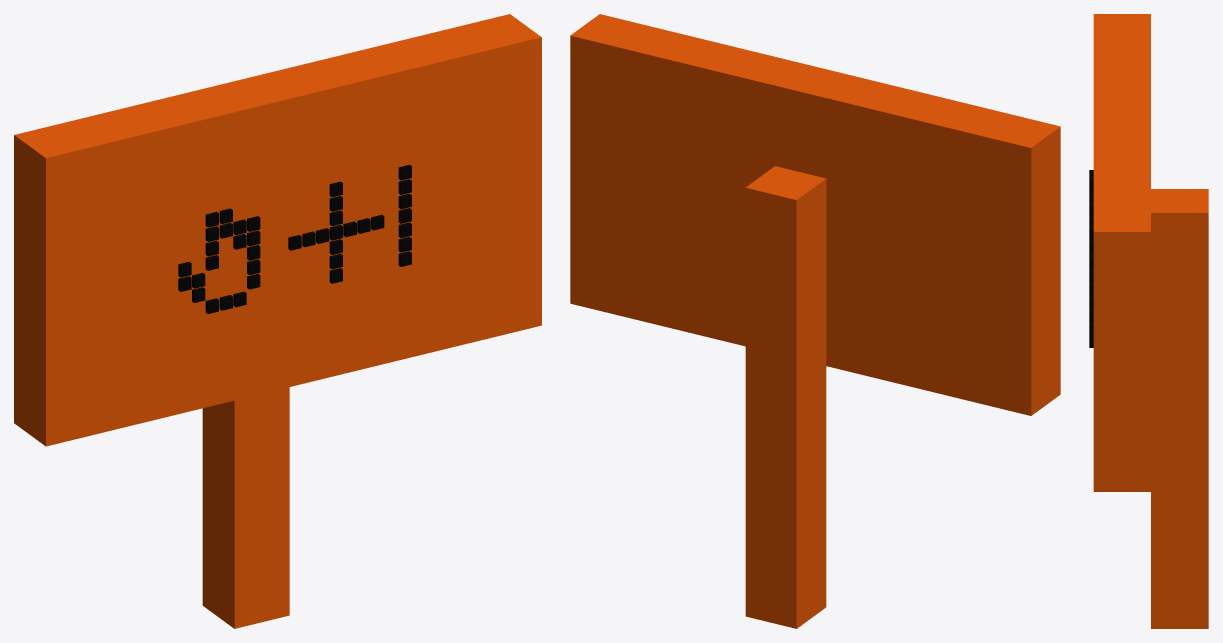
The model's file is ExpandPack.fbx.
3 renders of one model, left to right at view 1: azimuth 30°, elevation 25°; view 2: azimuth 150°, elevation 25°; view 3: azimuth 270°, elevation 25°, orthographic. The views are drawn at different scales.
Parts seen in each view (by area): view 1: 板, 杭; view 2: 板, 杭; view 3: 板, 杭.
Boxes of the visible parts, <box> form: 板: <box>14,14,541,446</box>; 杭: <box>202,387,289,628</box>; 板: <box>570,14,1060,415</box>; 杭: <box>745,166,826,628</box>; 板: <box>1093,14,1150,491</box>; 杭: <box>1151,189,1208,628</box>.
Bounding box in the file's own units: 180 × 190 × 41.5.
